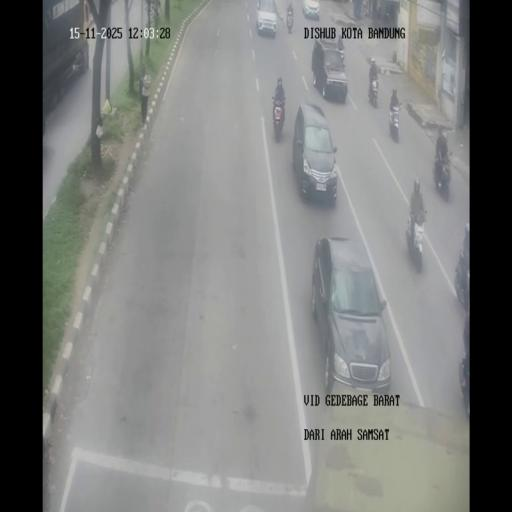car: (311, 239, 388, 395), (294, 102, 339, 204), (312, 39, 348, 101), (255, 0, 277, 37), (302, 0, 320, 20)
motorcycle: (406, 206, 426, 270), (433, 149, 452, 199), (454, 252, 469, 308), (272, 94, 286, 140), (460, 355, 469, 419), (388, 101, 400, 141), (368, 75, 380, 108), (337, 35, 345, 61), (376, 5, 387, 23), (286, 9, 294, 33), (361, 0, 370, 17)
truck: (309, 395, 466, 510), (40, 1, 88, 122)
